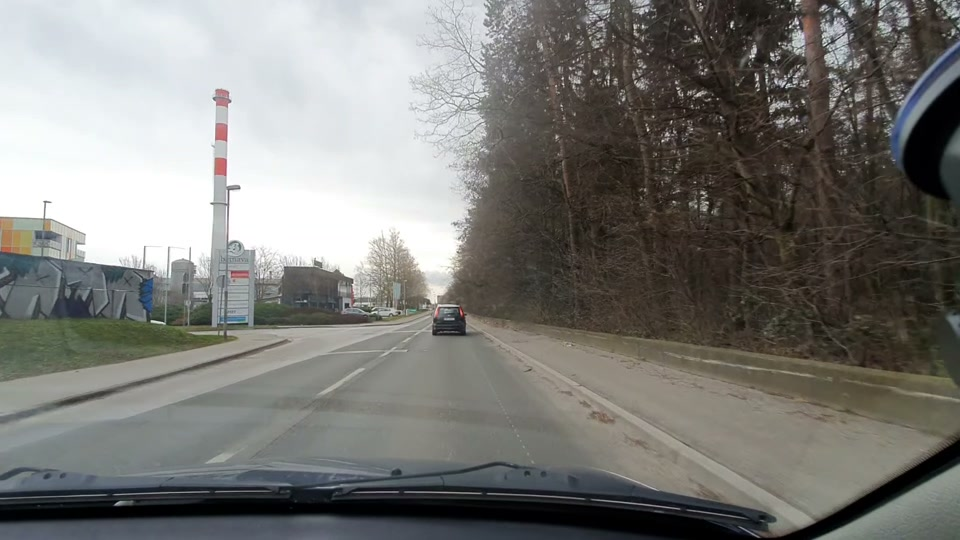vehicle_ign: (425, 297, 474, 344)
